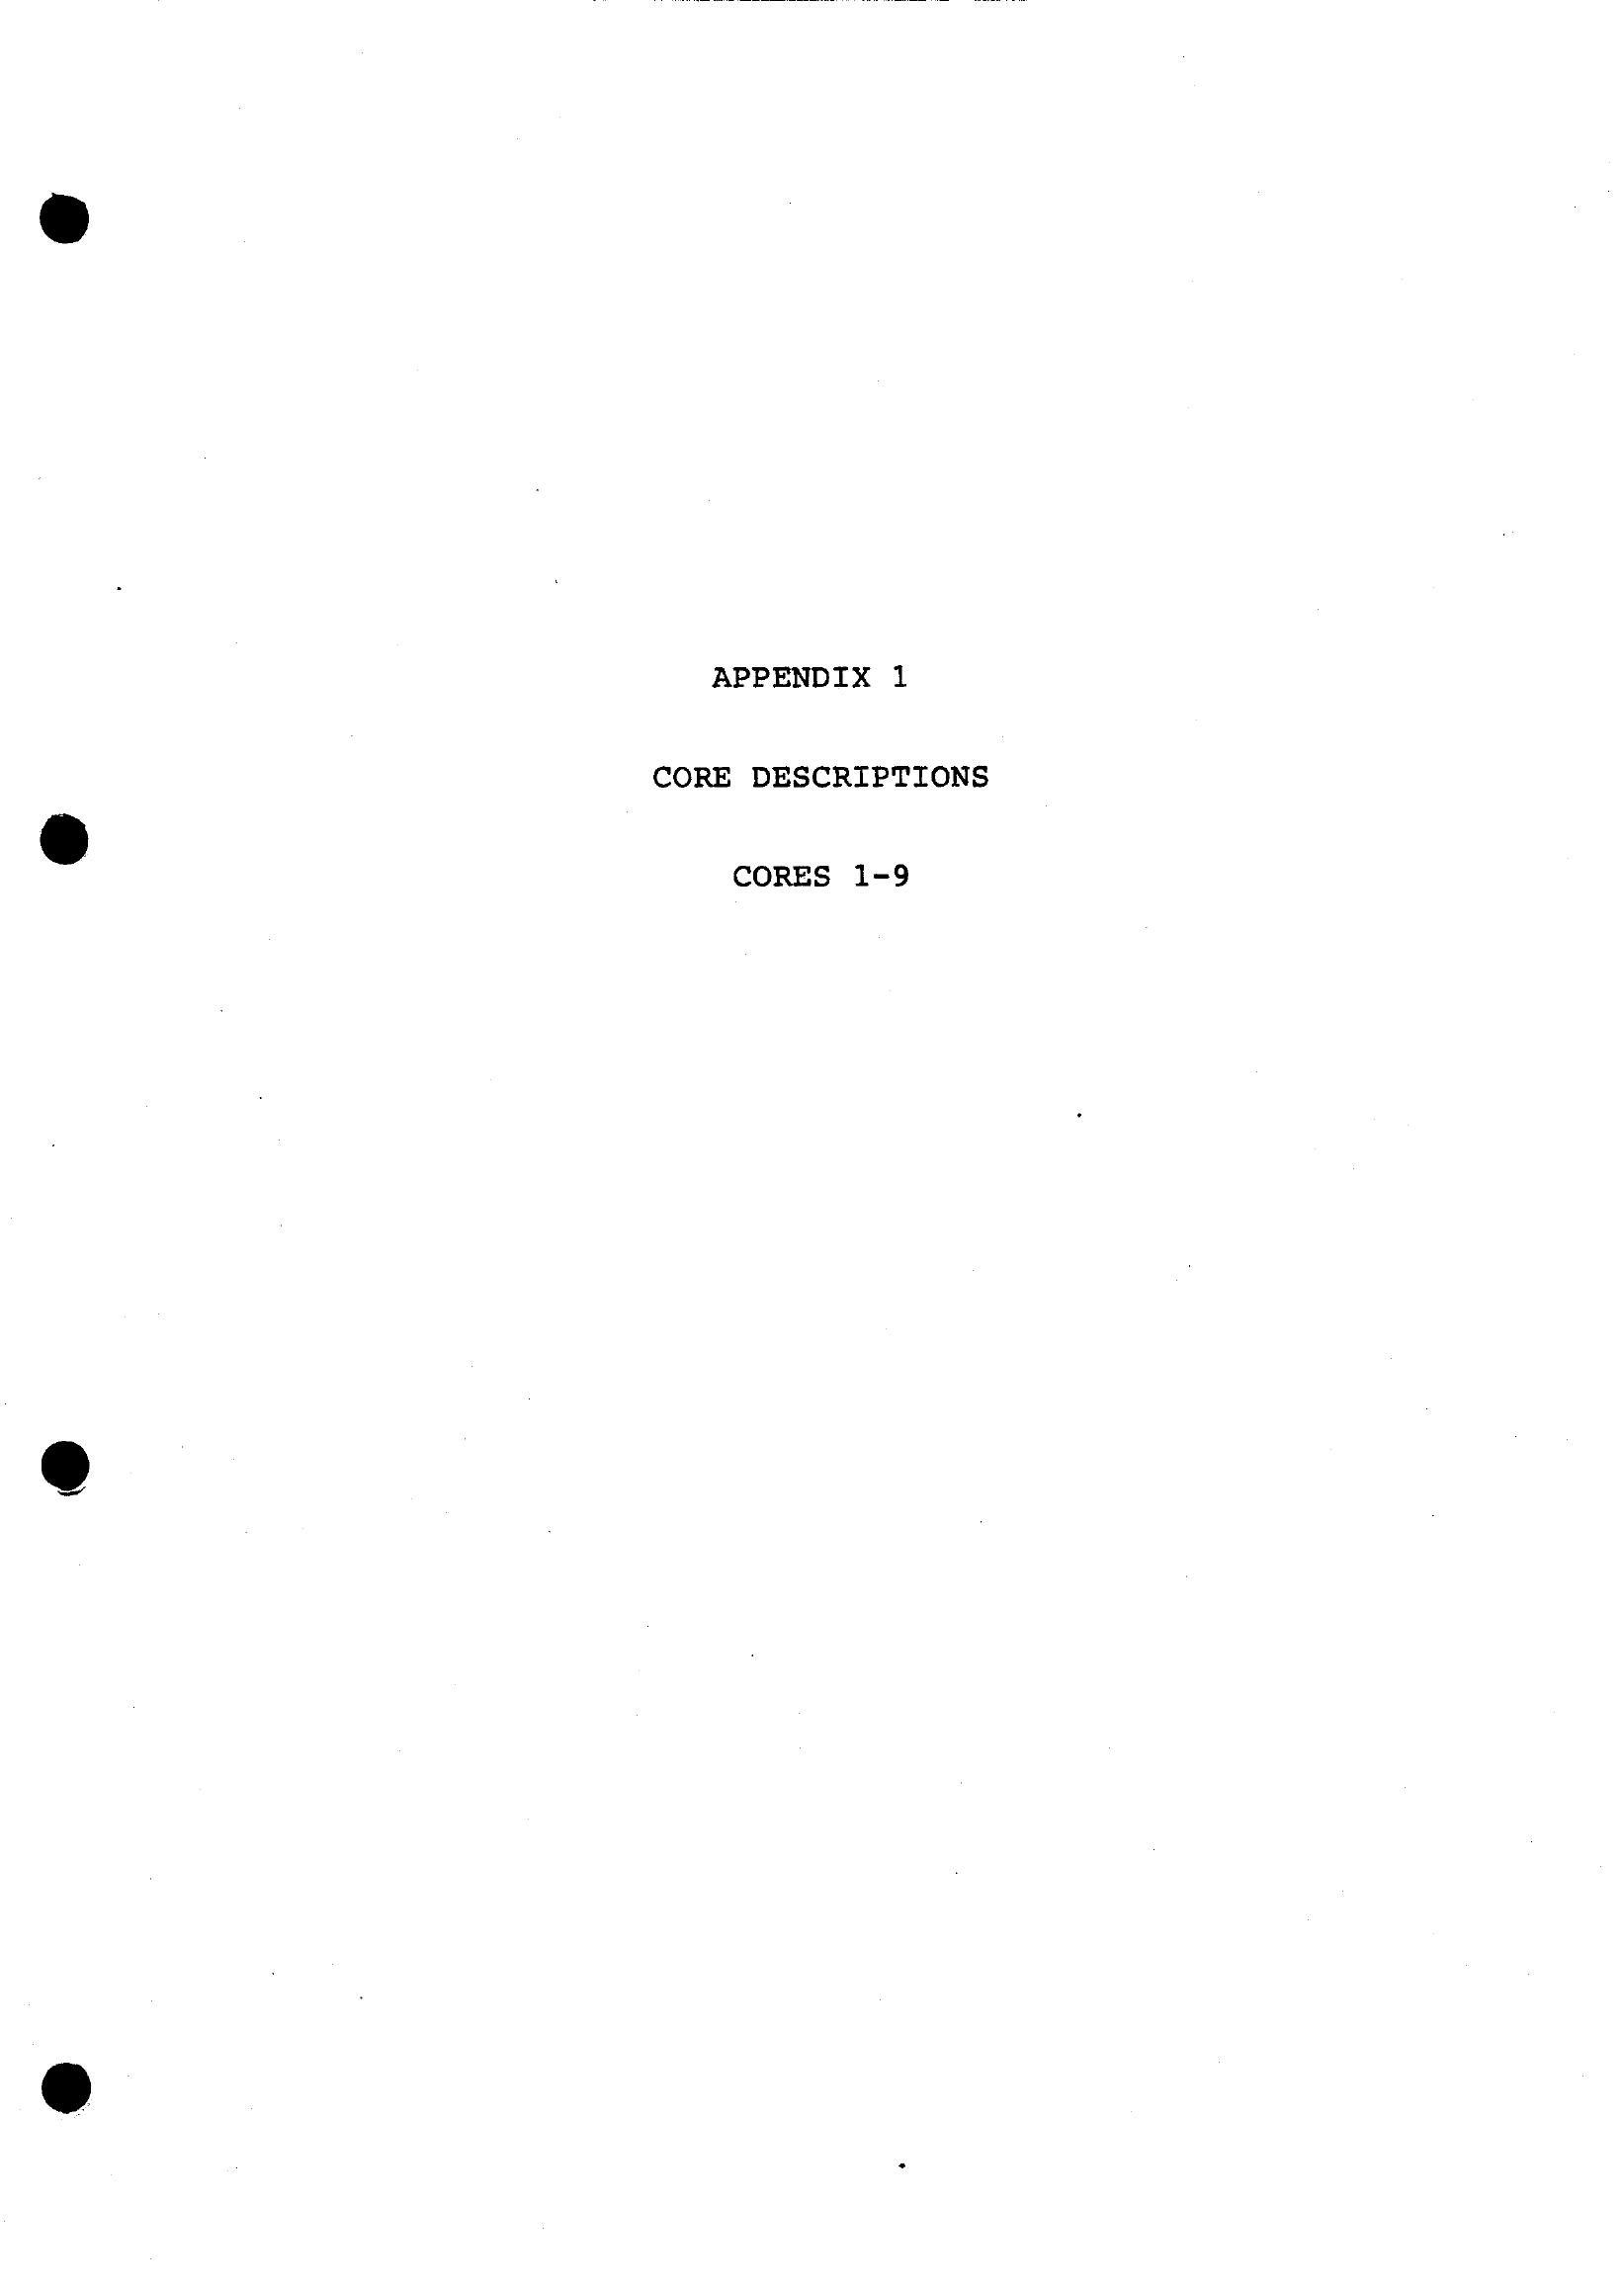text: (587, 554, 1048, 970)
